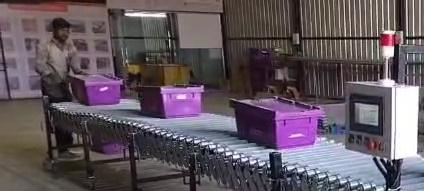box: (230, 97, 324, 148), (138, 85, 203, 118), (70, 74, 122, 105)
